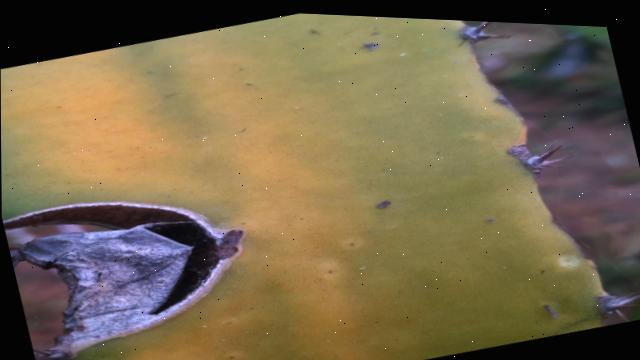stemcanker: (473, 210, 507, 230), (372, 192, 401, 214), (292, 24, 327, 41), (351, 38, 386, 55)
